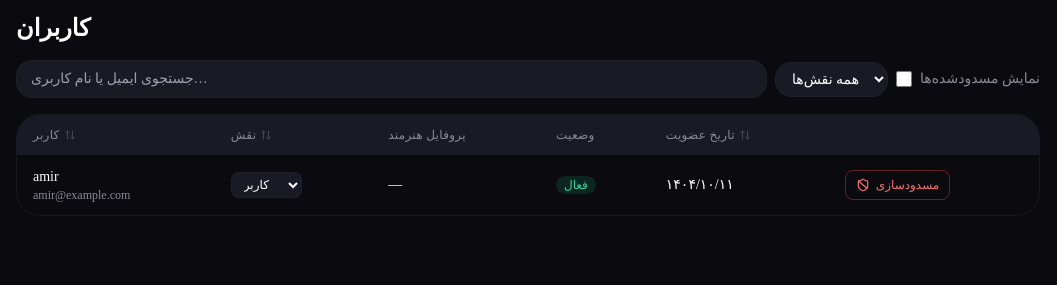
Test: AdminUsersPage › changes a user's role from the row's select
Step 1. Select "مدیر" in the dropdown showing "کاربر" next to "amir@example.com" → (266, 185), box [231,172,302,198]
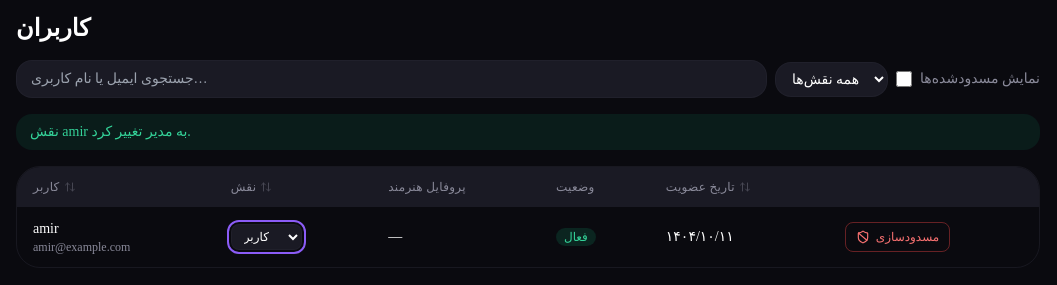
Result: the message reads "نقش amir به مدیر تغییر کرد." at [30,124,191,139]
